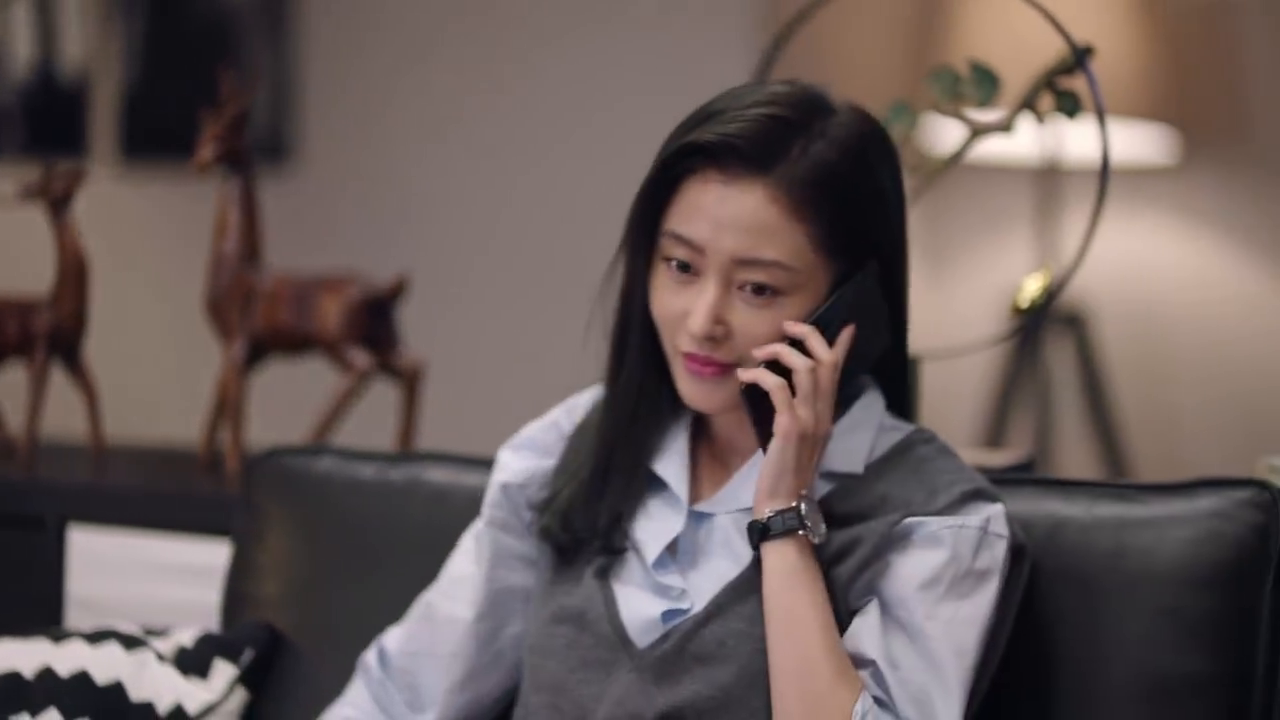calling: (737, 279, 878, 499)
